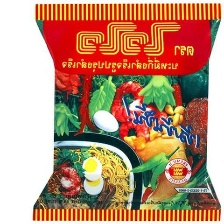snack: (26, 0, 224, 224)
